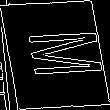M_E: (7, 29, 103, 81)
